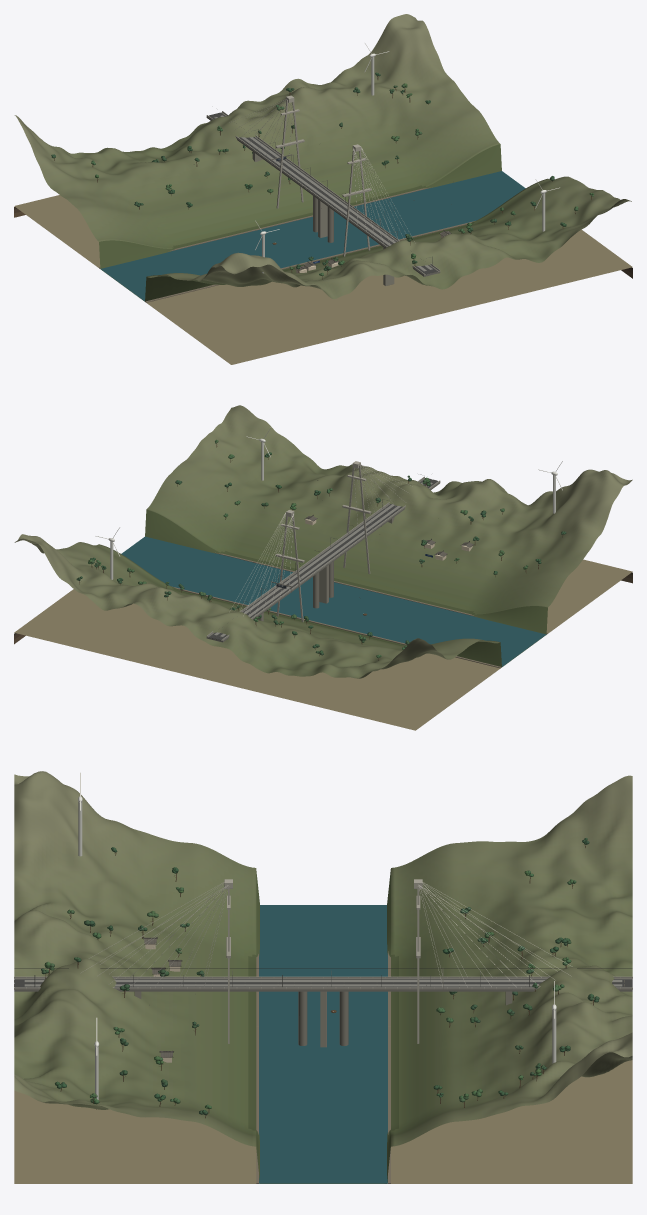
File: rail.glb
3 views of the same model, one above another, from view 1: azimuth 30°, elevation 25°; view 2: azimuth 150°, elevation 25°; view 3: azimuth 270°, elevation 25° (orthographic). The views are drawn at different scales.
Parts seen in each view (by area): view 1: RailScene_RailMatte, RailScene_Matte, Water_River, RailScene_RailConcrete, RailScene_RailSteel, RailScene_RailTree, RailScene_RailRock; view 2: RailScene_RailMatte, RailScene_Matte, Water_River, RailScene_RailConcrete, RailScene_RailSteel, RailScene_RailTree, RailScene_RailRock; view 3: RailScene_RailMatte, RailScene_Matte, Water_River, RailScene_RailConcrete, RailScene_RailSteel, RailScene_RailTree, RailScene_RailRock.
Part boxes in pixels (<box>): RailScene_RailMatte: <box>14,14,631,301</box>; RailScene_Matte: <box>14,195,632,364</box>; Water_River: <box>101,171,525,301</box>; RailScene_RailConcrete: <box>206,43,559,285</box>; RailScene_RailSteel: <box>214,99,432,271</box>; RailScene_RailTree: <box>51,72,593,275</box>; RailScene_RailRock: <box>99,187,474,302</box>; RailScene_RailMatte: <box>14,405,632,678</box>; RailScene_Matte: <box>14,559,632,730</box>; Water_River: <box>121,536,546,666</box>; RailScene_RailConcrete: <box>95,428,562,642</box>; RailScene_RailSteel: <box>214,464,432,636</box>; RailScene_RailTree: <box>76,439,566,657</box>; RailScene_RailRock: <box>172,552,547,668</box>; RailScene_RailMatte: <box>14,771,632,1183</box>; RailScene_Matte: <box>14,1060,632,1183</box>; Water_River: <box>259,905,387,1183</box>; RailScene_RailConcrete: <box>14,772,632,1099</box>; RailScene_RailSteel: <box>14,882,632,991</box>; RailScene_RailTree: <box>41,838,599,1115</box>; RailScene_RailRock: <box>256,951,390,1183</box>.
Size of the model in its own units: 320 by 97.5 by 300.
8 materials, 1 textured.
